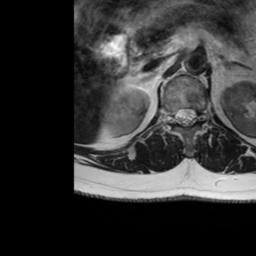CCS_normal: (182, 100, 191, 135)
LFS_stenosis: (198, 101, 206, 128)
LLS_normal: (191, 100, 199, 130)
RFS_normal: (166, 103, 174, 130)
RLS_normal: (174, 101, 182, 130)
